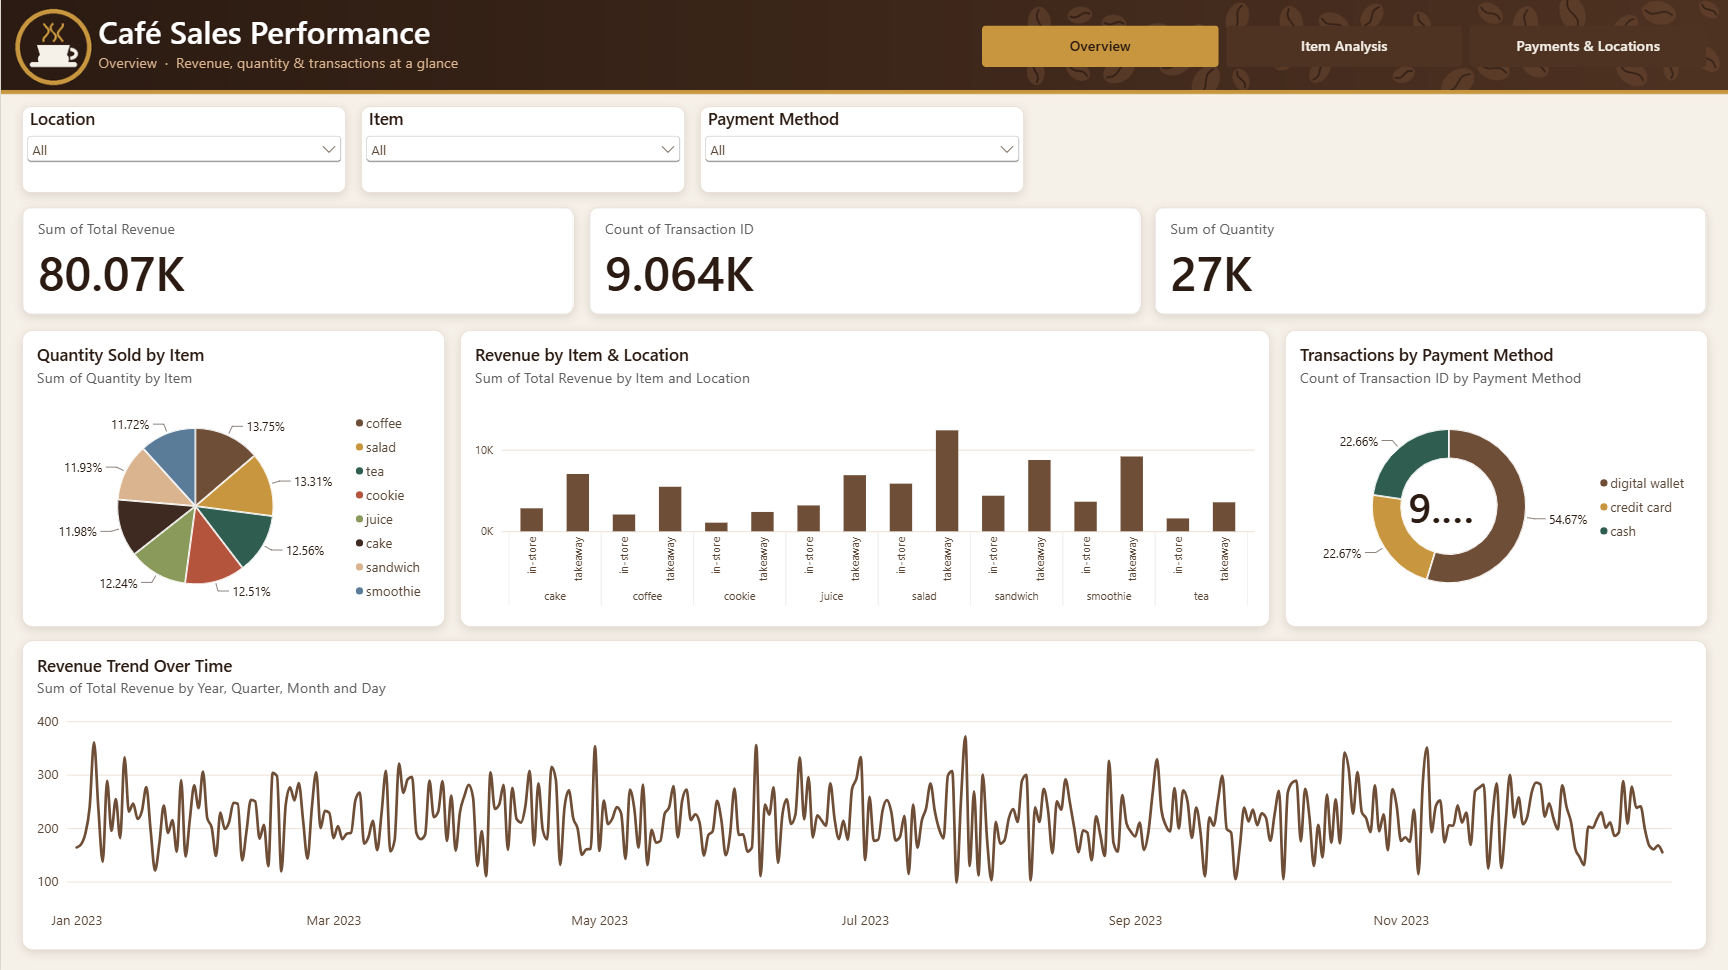

The page's visual inventory and layout, read from the dashboard file:
{"tool":"powerbi","page":{"name":"Overview","canvas":[1920,1080],"ordinal":0},"visuals":[{"type":"cardVisual","fields":{"Data":["Sum(cleaned_cafe-dataset.Total Spent)"]},"box":[24,230,614,120],"z":10},{"type":"cardVisual","fields":{"Data":["Count(cleaned_cafe-dataset.Transaction ID)"]},"box":[653,230,614,120],"z":11},{"type":"cardVisual","fields":{"Data":["Sum(cleaned_cafe-dataset.Quantity)"]},"box":[1282,230,614,120],"z":12},{"type":"pieChart","title":"Quantity Sold by Item","fields":{"Category":["cleaned_cafe-dataset.Item"],"Y":["Sum(cleaned_cafe-dataset.Quantity)"]},"box":[24,366,470,330],"z":13},{"type":"lineClusteredColumnComboChart","title":"Revenue by Item & Location","fields":{"Category":["cleaned_cafe-dataset.Item","cleaned_cafe-dataset.Location"],"Y":["Sum(cleaned_cafe-dataset.Total Revenue)"]},"box":[510,366,900,330],"z":14},{"type":"donutChart","title":"Transactions by Payment Method","fields":{"Category":["cleaned_cafe-dataset.Payment Method"],"Y":["CountNonNull(cleaned_cafe-dataset.Transaction ID)"]},"box":[1426,366,470,330],"z":15},{"type":"lineChart","title":"Revenue Trend Over Time","fields":{"Category":["cleaned_cafe-dataset.Transaction Date.Variation.Date Hierarchy.Year","cleaned_cafe-dataset.Transaction Date.Variation.Date Hierarchy.Quarter","cleaned_cafe-dataset.Transaction Date.Variation.Date Hierarchy.Month","cleaned_cafe-dataset.Transaction Date.Variation.Date Hierarchy.Day"],"Y":["Sum(cleaned_cafe-dataset.Total Spent)"]},"box":[24,712,1872,344],"z":16},{"type":"slicer","fields":{"Values":["cleaned_cafe-dataset.Location"]},"box":[24,118,360,96],"z":20},{"type":"slicer","fields":{"Values":["cleaned_cafe-dataset.Item"]},"box":[400,118,360,96],"z":21},{"type":"slicer","fields":{"Values":["cleaned_cafe-dataset.Payment Method"]},"box":[776,118,360,96],"z":22},{"type":"textbox","box":[108,12,900,48],"z":30},{"type":"textbox","box":[108,58,960,30],"z":31},{"type":"pageNavigator","box":[1090,28,806,46],"z":32}]}

Visuals, with their boxes in screenshot pixels (x1, y1, x2, y2), scaled from the page's 1920x1080 canvas onto the 1728x970 screenshot:
cardVisual - Sum(cleaned_cafe-dataset.Total Spent): (x1=22, y1=207, x2=574, y2=314)
cardVisual - Count(cleaned_cafe-dataset.Transaction ID): (x1=588, y1=207, x2=1140, y2=314)
cardVisual - Sum(cleaned_cafe-dataset.Quantity): (x1=1154, y1=207, x2=1706, y2=314)
"Quantity Sold by Item" pieChart: (x1=22, y1=329, x2=445, y2=625)
"Revenue by Item & Location" lineClusteredColumnComboChart: (x1=459, y1=329, x2=1269, y2=625)
"Transactions by Payment Method" donutChart: (x1=1283, y1=329, x2=1706, y2=625)
"Revenue Trend Over Time" lineChart: (x1=22, y1=639, x2=1706, y2=948)
slicer - cleaned_cafe-dataset.Location: (x1=22, y1=106, x2=346, y2=192)
slicer - cleaned_cafe-dataset.Item: (x1=360, y1=106, x2=684, y2=192)
slicer - cleaned_cafe-dataset.Payment Method: (x1=698, y1=106, x2=1022, y2=192)
textbox: (x1=97, y1=11, x2=907, y2=54)
textbox: (x1=97, y1=52, x2=961, y2=79)
pageNavigator: (x1=981, y1=25, x2=1706, y2=66)
